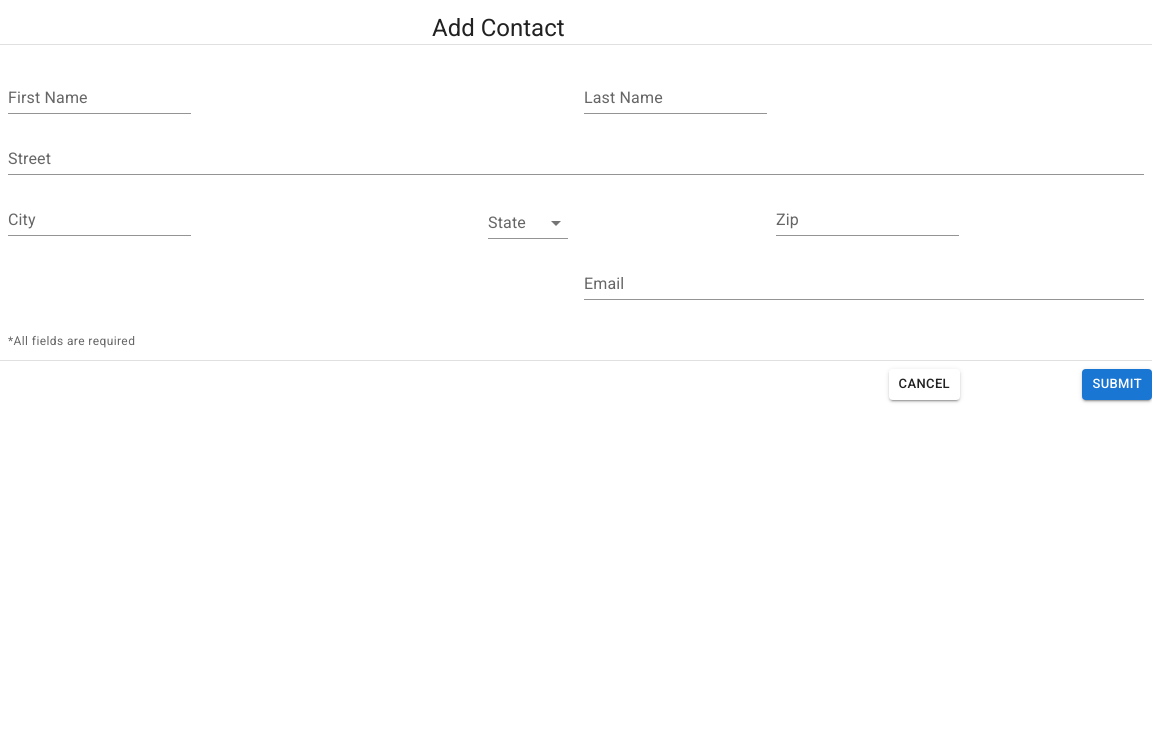
Contact Form component › street input validation
The width and height of the screenshot is (1164, 732).
Step 1. Type "park ave 456" into the field labelled "Street" → (576, 160), box [8,146,1144,175]
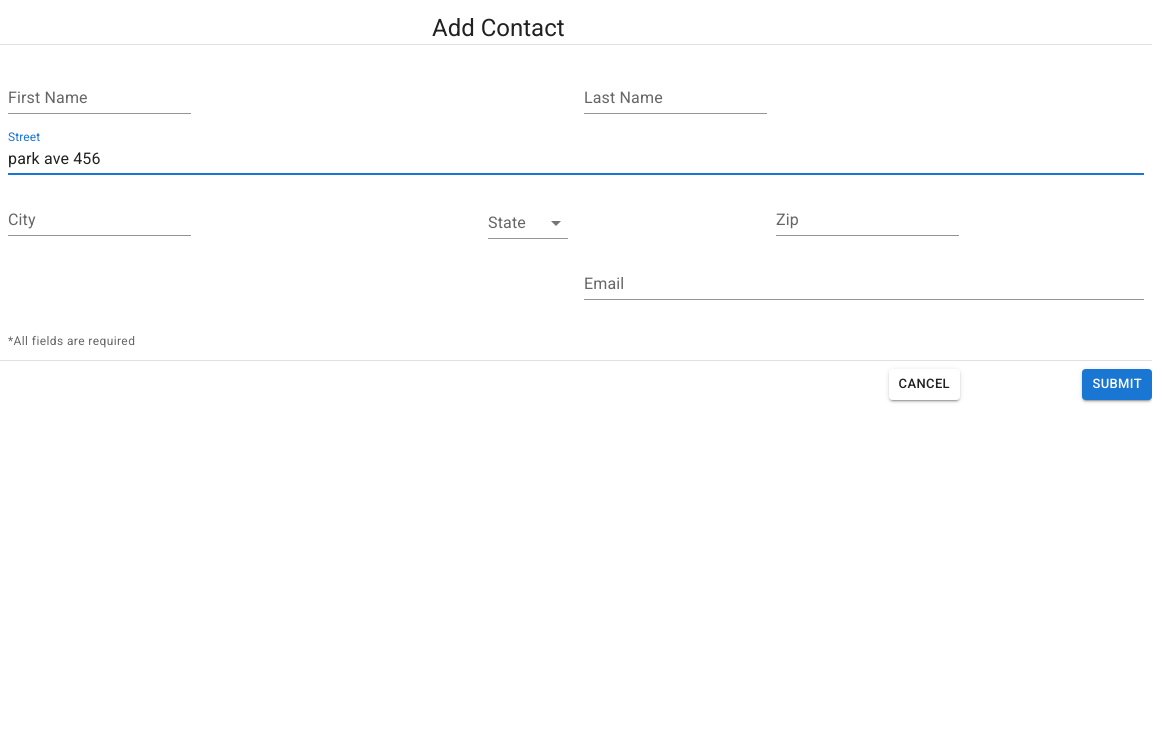
Step 2. Click the button "Submit" → (1117, 384), box [1082,369,1152,400]
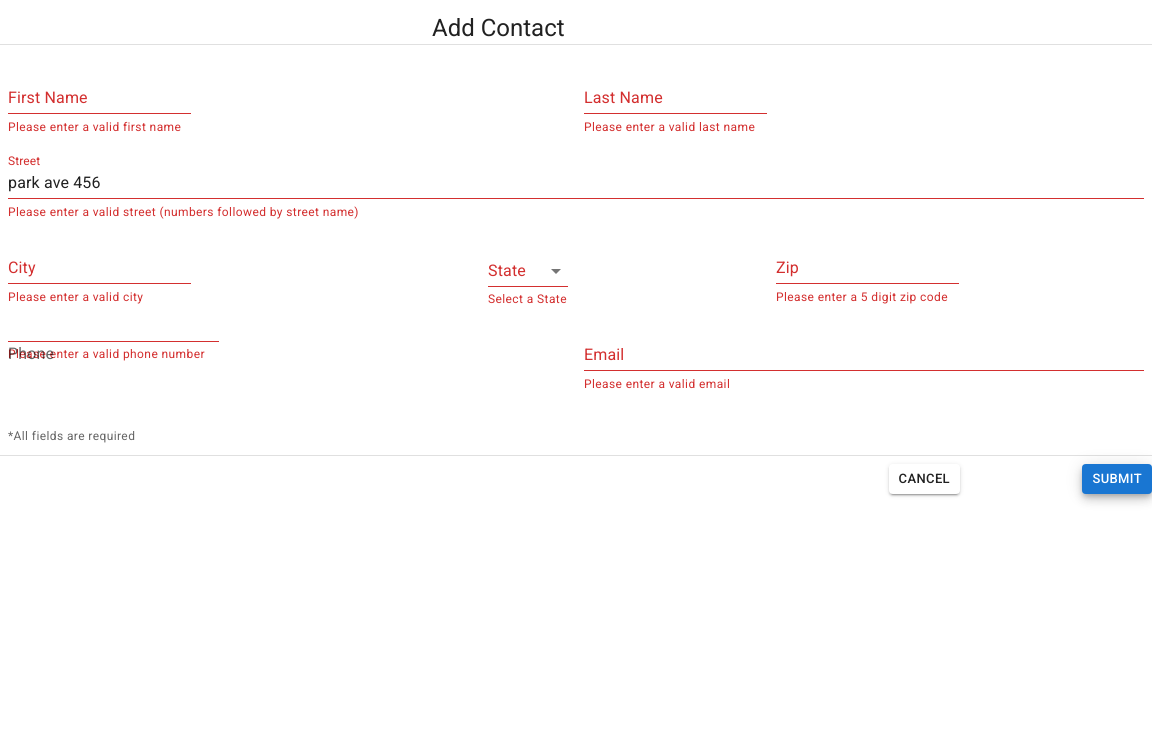
Expected: the text "Please enter a valid street (numbers followed by street name)" is shown, [8,205,359,219]
Step 3. Replace the text in the field labelled "Street" with "999 oakland rd." → (576, 184), box [8,170,1144,199]
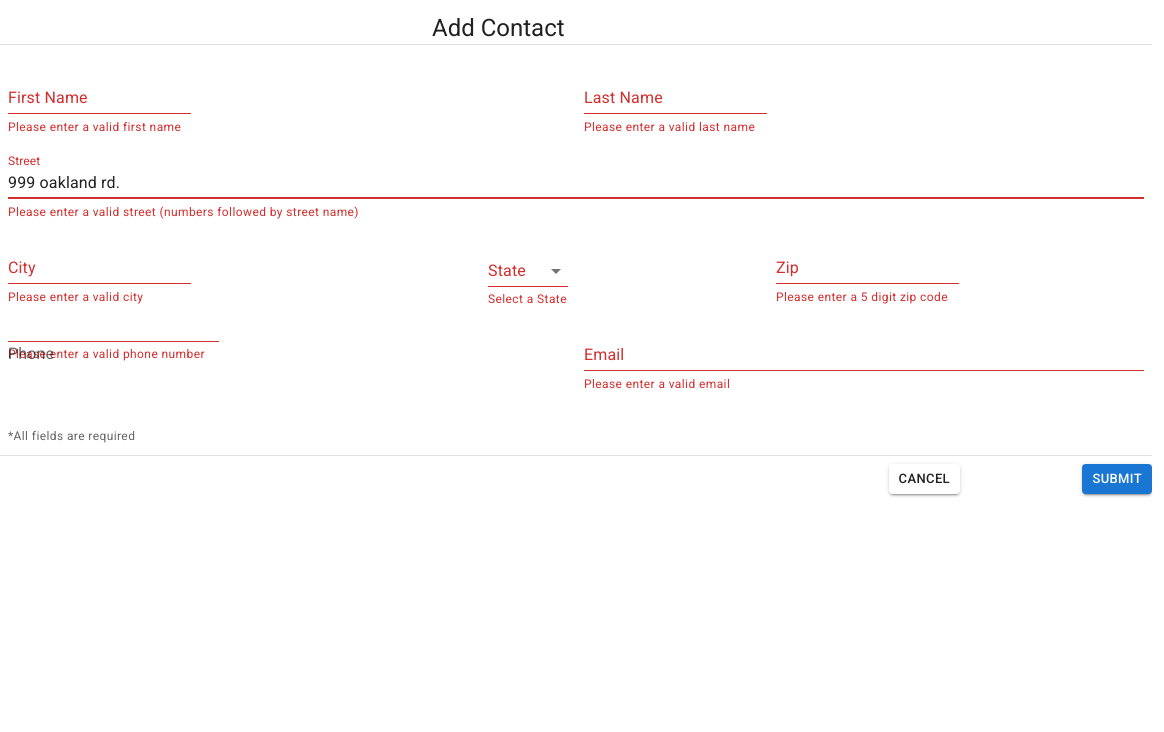
Step 4. Click the button "Submit" → (1117, 479), box [1082,464,1152,494]
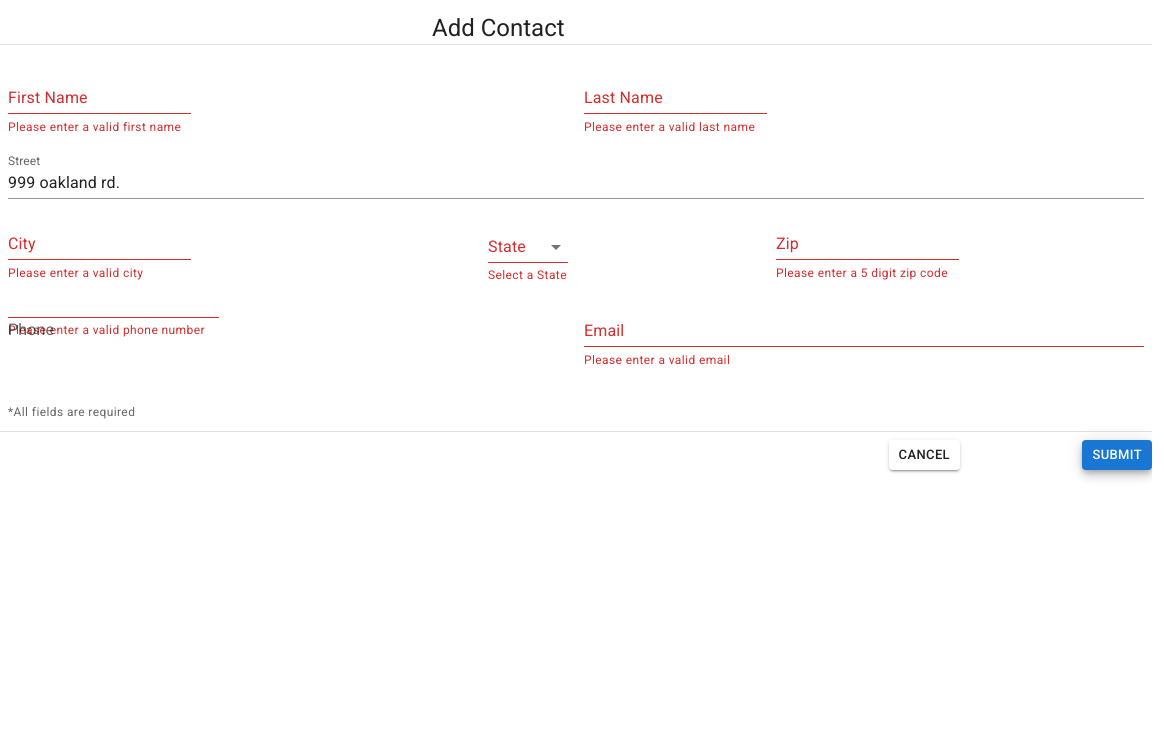
Expected: the text "Please enter a valid street (numbers followed by street name)" is gone
